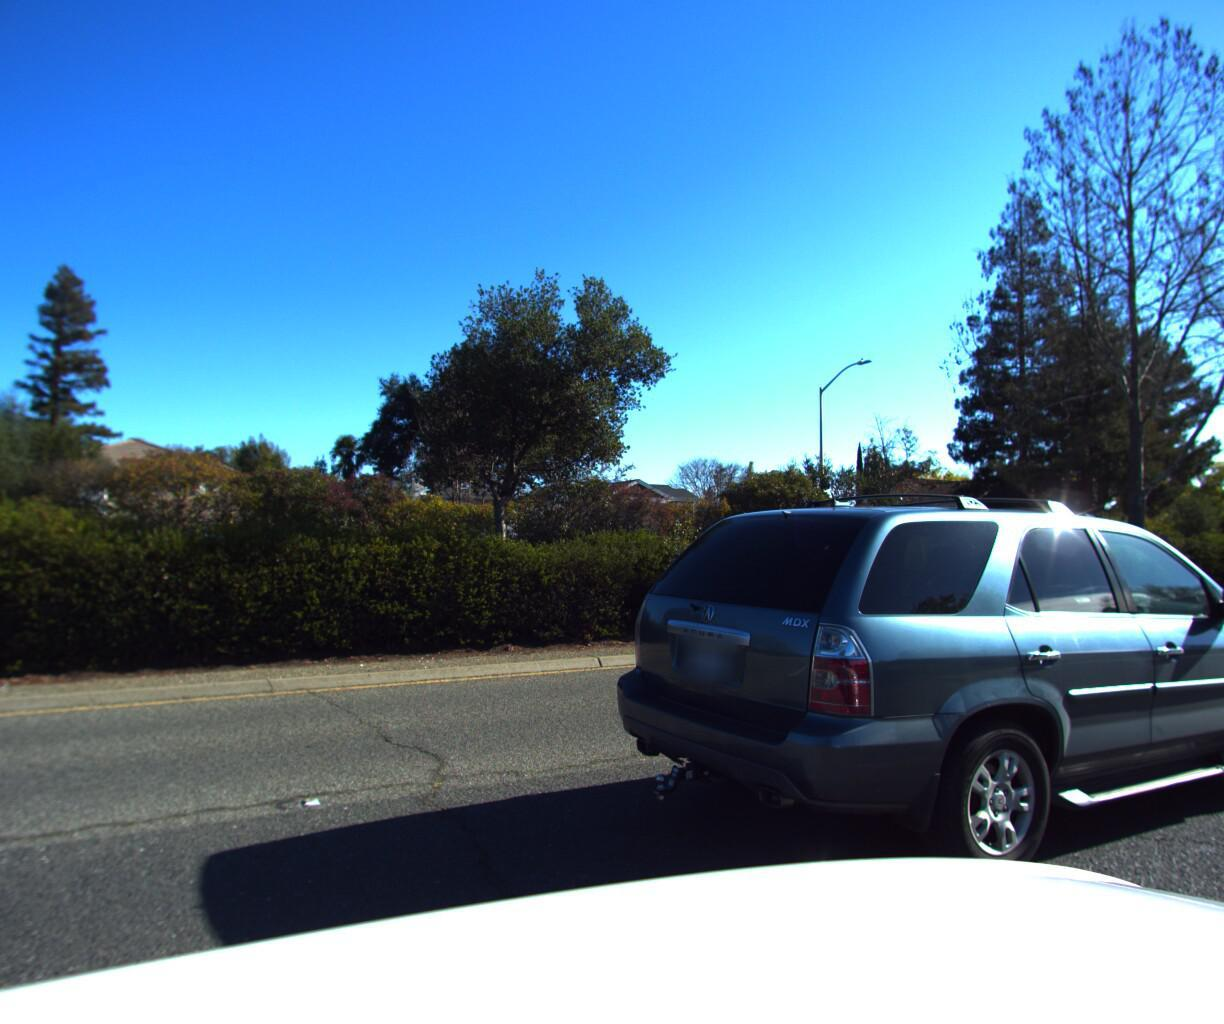car: (574, 459, 1224, 951)
